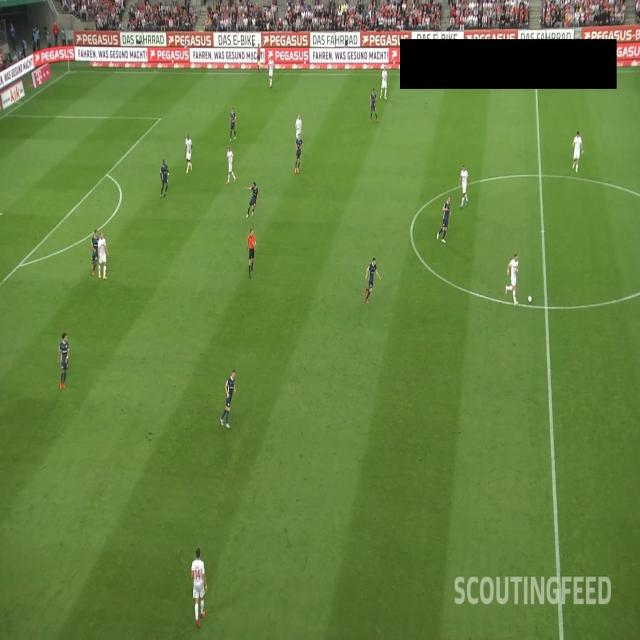ball: (528, 295, 532, 303)
